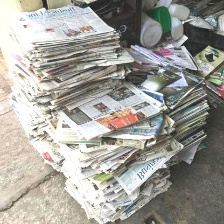news_paper: (48, 76, 183, 224), (114, 38, 214, 173), (6, 0, 123, 111), (7, 65, 66, 173)
